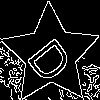D: (25, 30, 82, 86)
